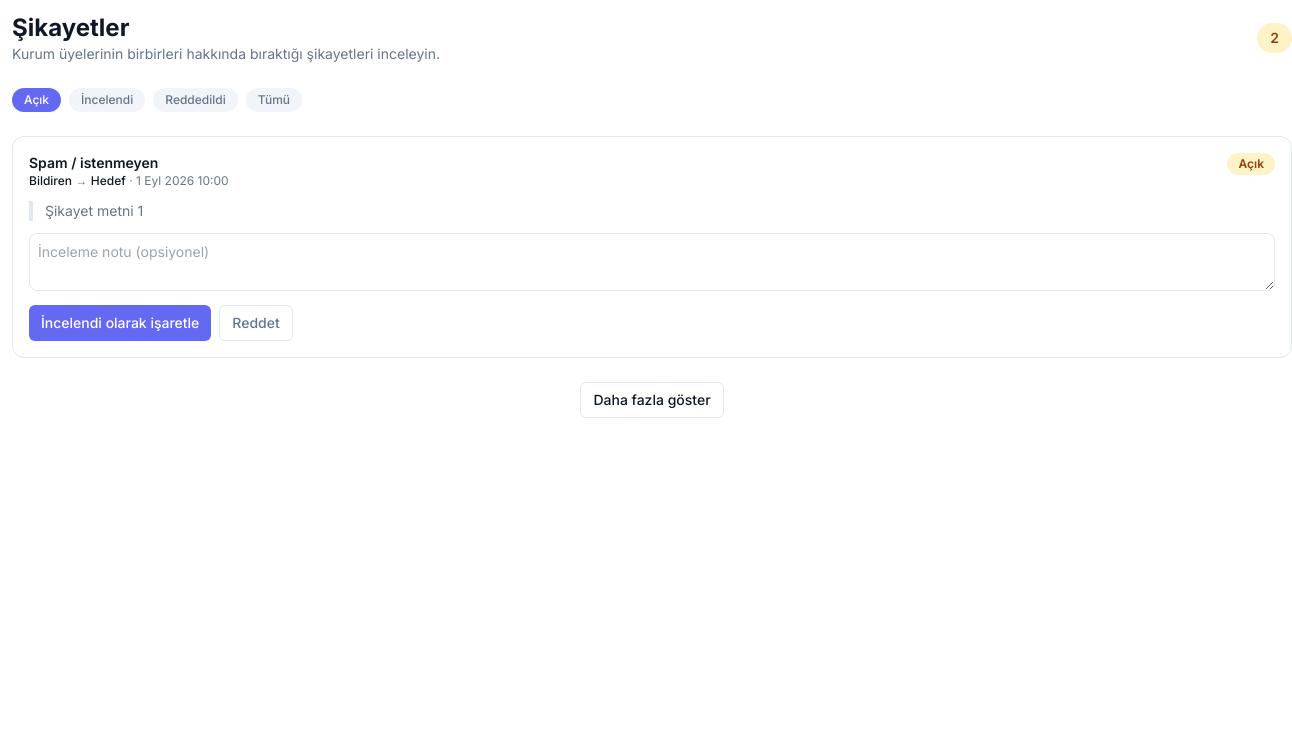
Test: Şikayet paneli sayfalama (AN-39) › durum filtresi değişince liste sıfırdan (offset'siz) yüklenir
Expected: the text "Şikayet metni 1" is shown, [29, 201, 1275, 221]
Click the button "Daha fazla göster". click: [652, 400]
box: [580, 382, 724, 418]
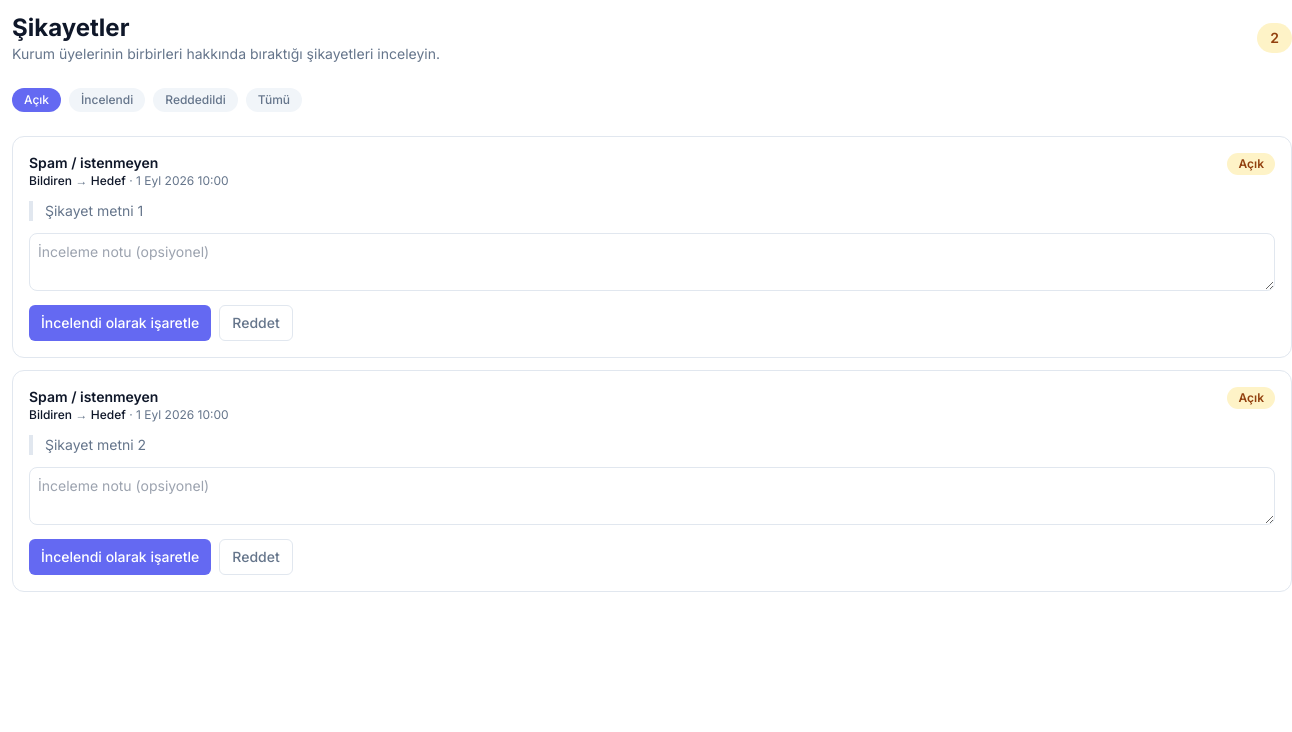
Result: the text "Şikayet metni 2" is shown at [29, 435, 1275, 455]
Click the button "Tümü". click: [274, 100]
box: [246, 88, 302, 112]
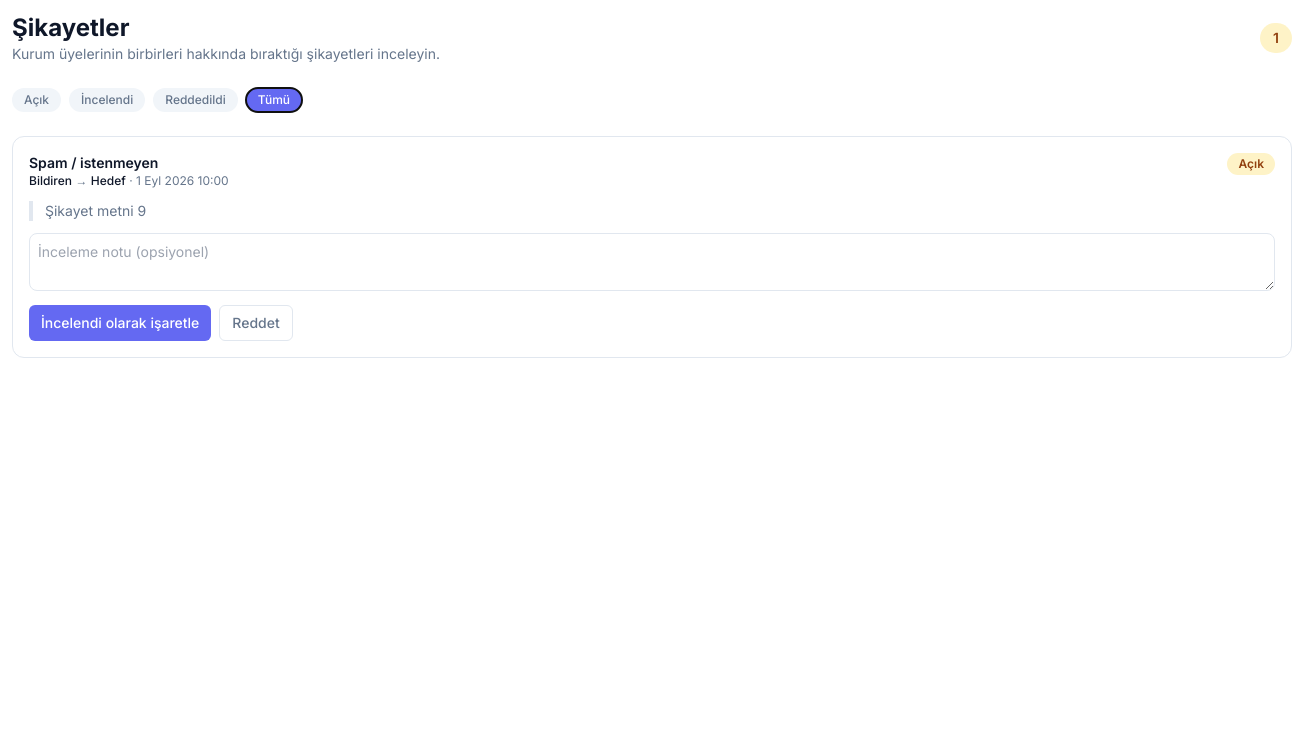
Result: the text "Şikayet metni 9" is shown at [29, 201, 1275, 221]
Result: the text "Şikayet metni 2" is gone
Result: the text "Şikayet metni 1" is gone
